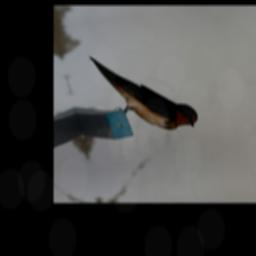Swallow: (86, 42, 203, 141)
